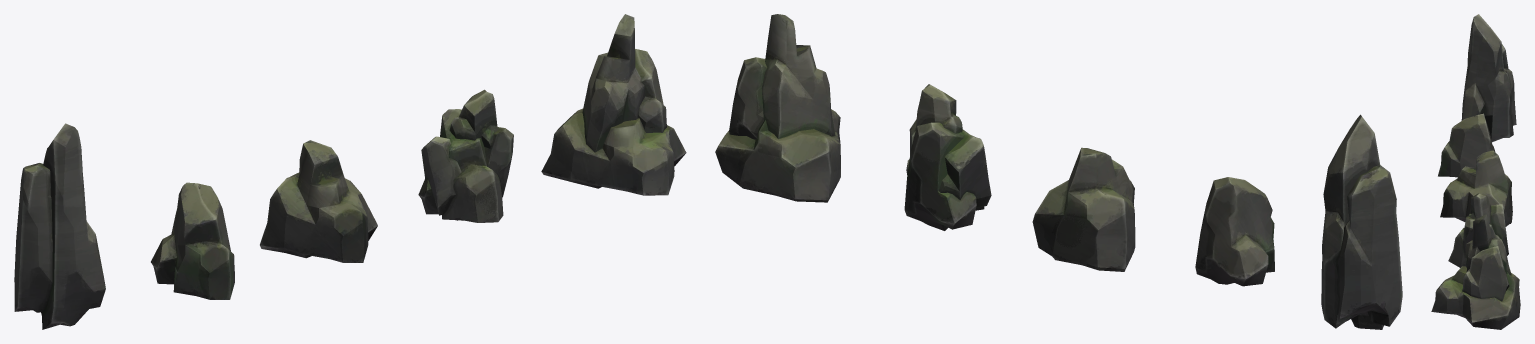
The model's file is rocks_free_model.glb.
3 views of the same model, side by side, from view 1: azimuth 30°, elevation 25°; view 2: azimuth 150°, elevation 25°; view 3: azimuth 270°, elevation 25° (orthographic). The views are drawn at different scales.
Parts seen in each view (by area): view 1: Rock_5, Rock_4, Rock_2, Rock_3, Rock_1; view 2: Rock_5, Rock_4, Rock_2, Rock_3, Rock_1; view 3: Rock_5, Rock_4, Rock_2, Rock_1, Rock_3.
Part boxes in pixels (<box>): Rock_5: <box>541,14,686,195</box>; Rock_4: <box>14,123,105,329</box>; Rock_2: <box>260,140,377,262</box>; Rock_3: <box>418,89,513,222</box>; Rock_1: <box>151,182,234,299</box>; Rock_5: <box>715,14,840,202</box>; Rock_4: <box>1321,114,1402,329</box>; Rock_2: <box>1032,147,1135,271</box>; Rock_3: <box>904,84,991,230</box>; Rock_1: <box>1195,177,1274,286</box>; Rock_5: <box>1431,214,1520,329</box>; Rock_4: <box>1461,14,1516,142</box>; Rock_2: <box>1440,150,1512,226</box>; Rock_1: <box>1438,113,1495,177</box>; Rock_3: <box>1448,193,1508,267</box>.
Size of the model in its own units: 7.28 by 2.15 by 1.32.
Materials: 1 (1 with a texture image).
